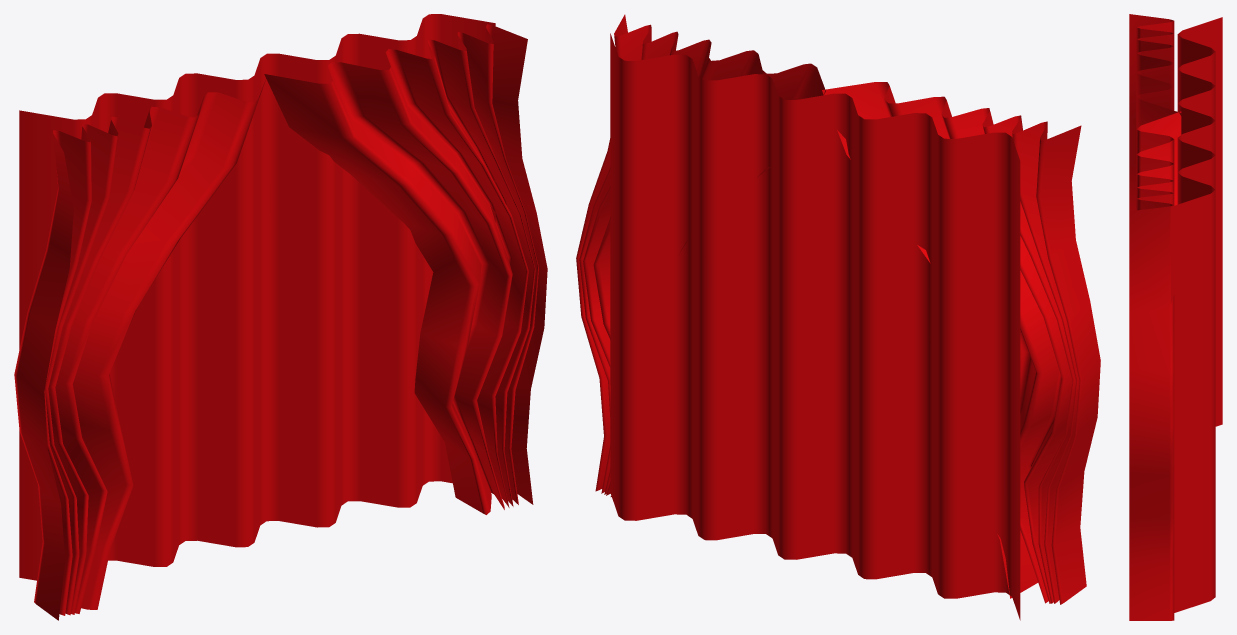
File: perde.fbx
3 renders of one model, left to right at view 1: azimuth 30°, elevation 25°; view 2: azimuth 150°, elevation 25°; view 3: azimuth 270°, elevation 25°, orthographic. The views are drawn at different scales.
Parts seen in each view (by area): view 1: Plane.001; view 2: Plane.001; view 3: Plane.001.
Part boxes in pixels (x1,y1,x2,y2): Plane.001: (14,14,547,620); Plane.001: (576,14,1100,620); Plane.001: (1129,14,1222,620).
Bounding box in the file's own units: 23.84 × 20.95 × 4.32.
